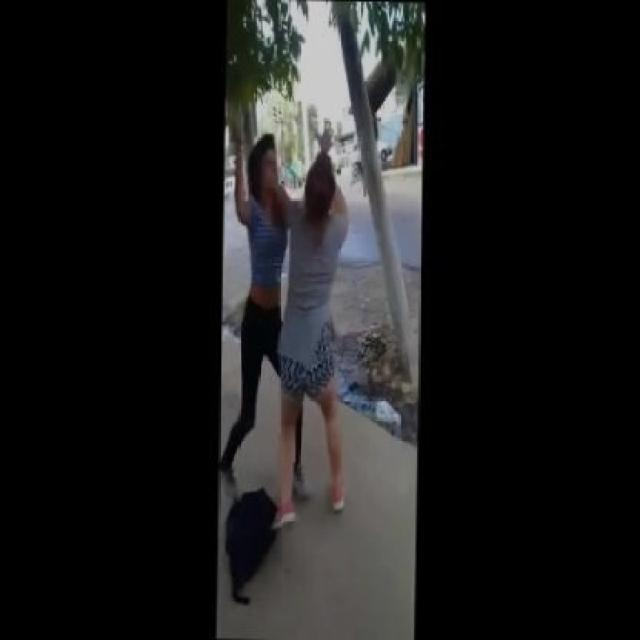fight: (221, 120, 383, 524)
